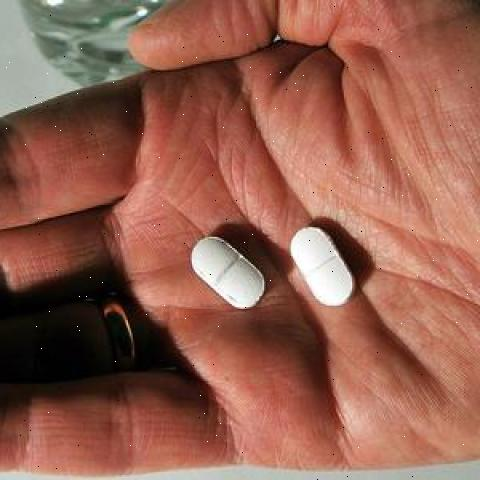Pill: (168, 213, 278, 318), (286, 199, 362, 332)
